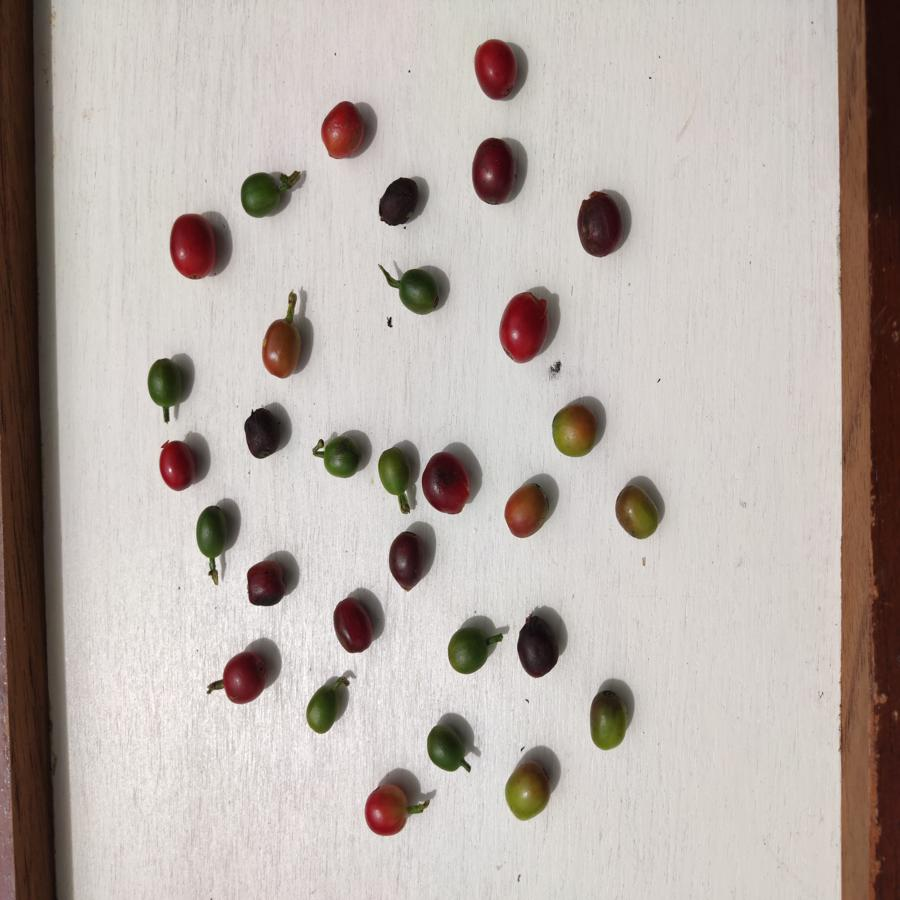Inmaduro: (146, 356, 184, 424), (391, 268, 443, 315), (239, 171, 286, 220), (444, 627, 491, 675), (314, 434, 363, 479), (378, 445, 414, 506), (195, 504, 232, 562), (427, 725, 469, 771), (303, 686, 342, 735)
Maduro: (498, 294, 553, 363), (169, 211, 218, 278), (472, 38, 521, 101), (321, 98, 367, 161), (363, 782, 411, 837), (159, 441, 198, 491)
Pinton: (547, 402, 603, 457), (499, 482, 554, 538), (259, 318, 304, 381), (589, 686, 632, 750), (505, 760, 550, 819), (614, 484, 662, 539)
Sobremaduro: (468, 135, 519, 206), (577, 190, 623, 262), (422, 451, 473, 515), (222, 648, 267, 707), (516, 617, 560, 677), (332, 599, 377, 654), (377, 177, 420, 229), (389, 529, 425, 589), (241, 407, 281, 460), (245, 560, 286, 605)
